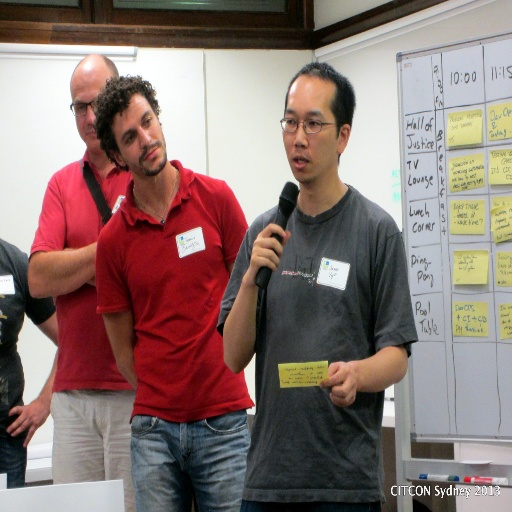hand: (247, 220, 291, 280), (3, 398, 49, 450), (318, 359, 357, 407)
